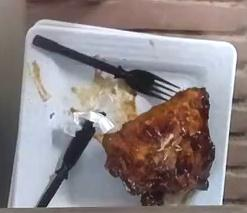chicken: (101, 87, 214, 204)
